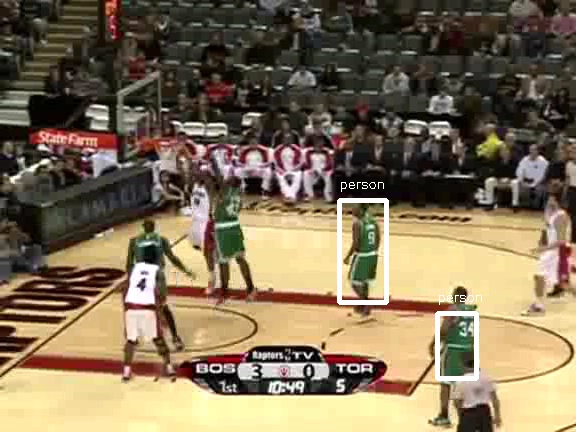person: (351, 212, 385, 293), (350, 212, 384, 293), (352, 212, 386, 293), (351, 211, 385, 292), (351, 213, 385, 294)
target_negative: (183, 239, 445, 418), (199, 21, 469, 110), (10, 210, 52, 421), (290, 365, 445, 388), (528, 333, 565, 421), (471, 148, 482, 327)
